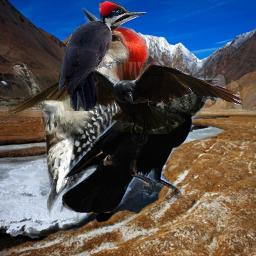Crow: (62, 76, 220, 213), (8, 62, 243, 143)
Woodpecker: (5, 4, 154, 222), (54, 0, 148, 111)
